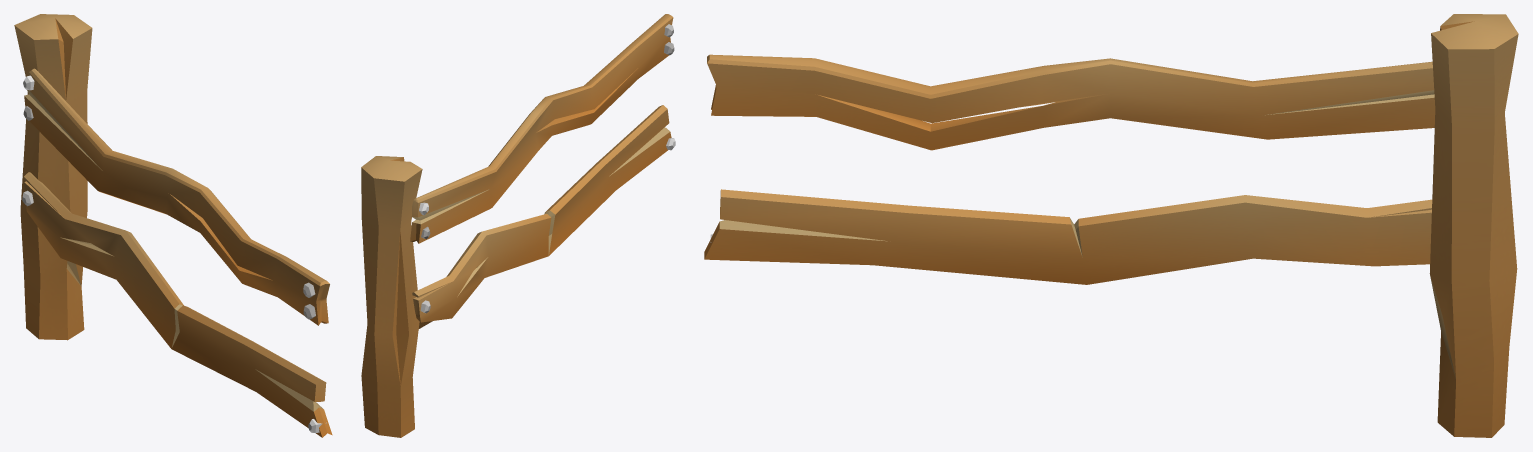
Rendered from valla11.fbx.
3 renders of one model, left to right at view 1: azimuth 30°, elevation 25°; view 2: azimuth 150°, elevation 25°; view 3: azimuth 270°, elevation 25°, orthographic. The views are drawn at different scales.
Visible parts, largest first — view 1: VallaLargaIzquierda; view 2: VallaLargaIzquierda; view 3: VallaLargaIzquierda.
Boxes of the visible parts, left/top/right/bottom form: VallaLargaIzquierda: left=14, top=14, right=332, bottom=437; VallaLargaIzquierda: left=361, top=14, right=675, bottom=437; VallaLargaIzquierda: left=704, top=14, right=1518, bottom=437.
Size of the model in its own units: 137 by 611 by 1121.
